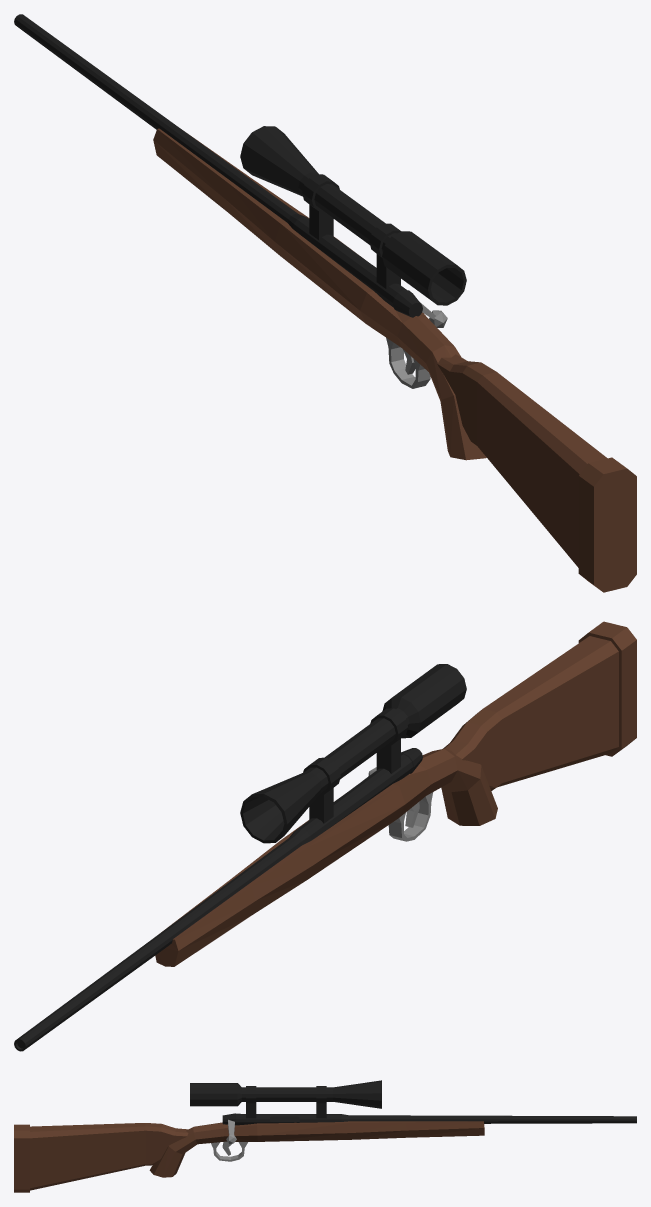
File: Sniper Rifle.glb
3 views of the same model, one above another, from view 1: azimuth 30°, elevation 25°; view 2: azimuth 150°, elevation 25°; view 3: azimuth 270°, elevation 25° (orthographic). The views are drawn at different scales.
Parts seen in each view (by area): view 1: Sniper_01_Cube; view 2: Sniper_01_Cube; view 3: Sniper_01_Cube.
Part boxes in pixels (left/top/right/bottom): Sniper_01_Cube: left=14, top=14, right=636, bottom=592; Sniper_01_Cube: left=14, top=621, right=636, bottom=1051; Sniper_01_Cube: left=14, top=1080, right=636, bottom=1192.
Bounding box in the file's own units: 0.2807 × 0.8963 × 4.69.
